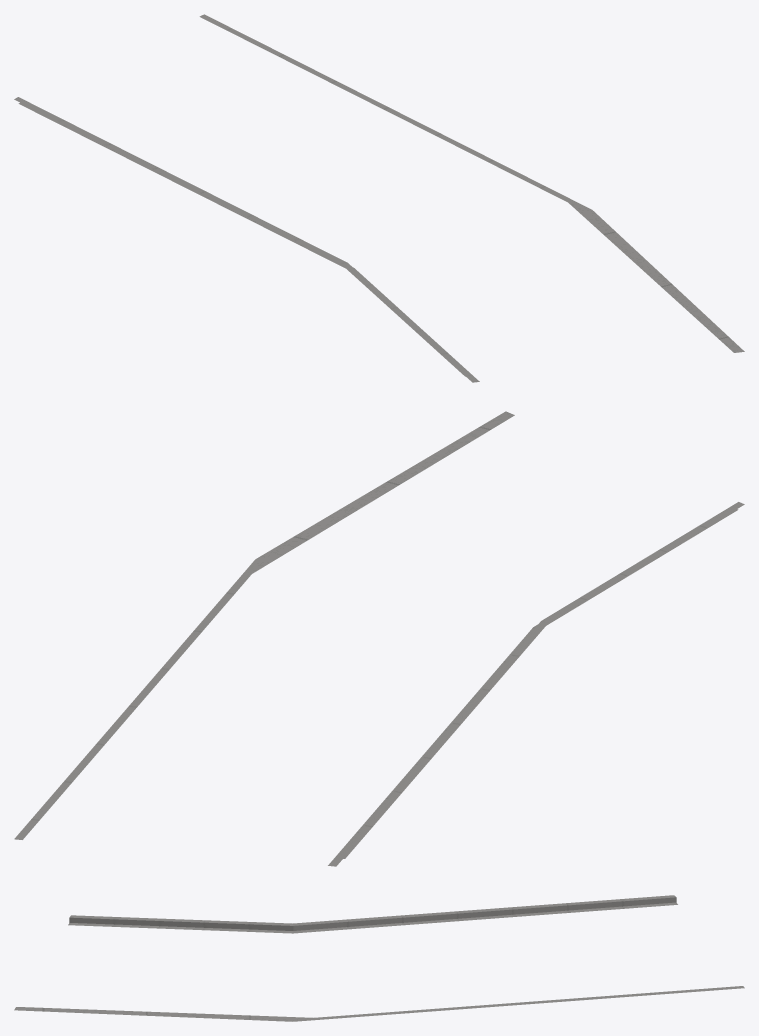
Rendered from kd_connection_town-ground_surface_5_49.glb.
3 renders of one model, top to bottom at view 1: azimuth 30°, elevation 25°; view 2: azimuth 150°, elevation 25°; view 3: azimuth 270°, elevation 25°, orthographic. The views are drawn at different scales.
Parts seen in each view (by area): view 1: kd_connection_town-ground_surface_5_49; view 2: kd_connection_town-ground_surface_5_49; view 3: kd_connection_town-ground_surface_5_49.
Part boxes in pixels (x1=…): kd_connection_town-ground_surface_5_49: x1=14, y1=14, x2=744, y2=382; kd_connection_town-ground_surface_5_49: x1=14, y1=411, x2=744, y2=866; kd_connection_town-ground_surface_5_49: x1=14, y1=895, x2=744, y2=1021.
Bounding box in the file's own units: 10.06 × 0.2 × 25.58.
Materials: 1 (1 with a texture image).
